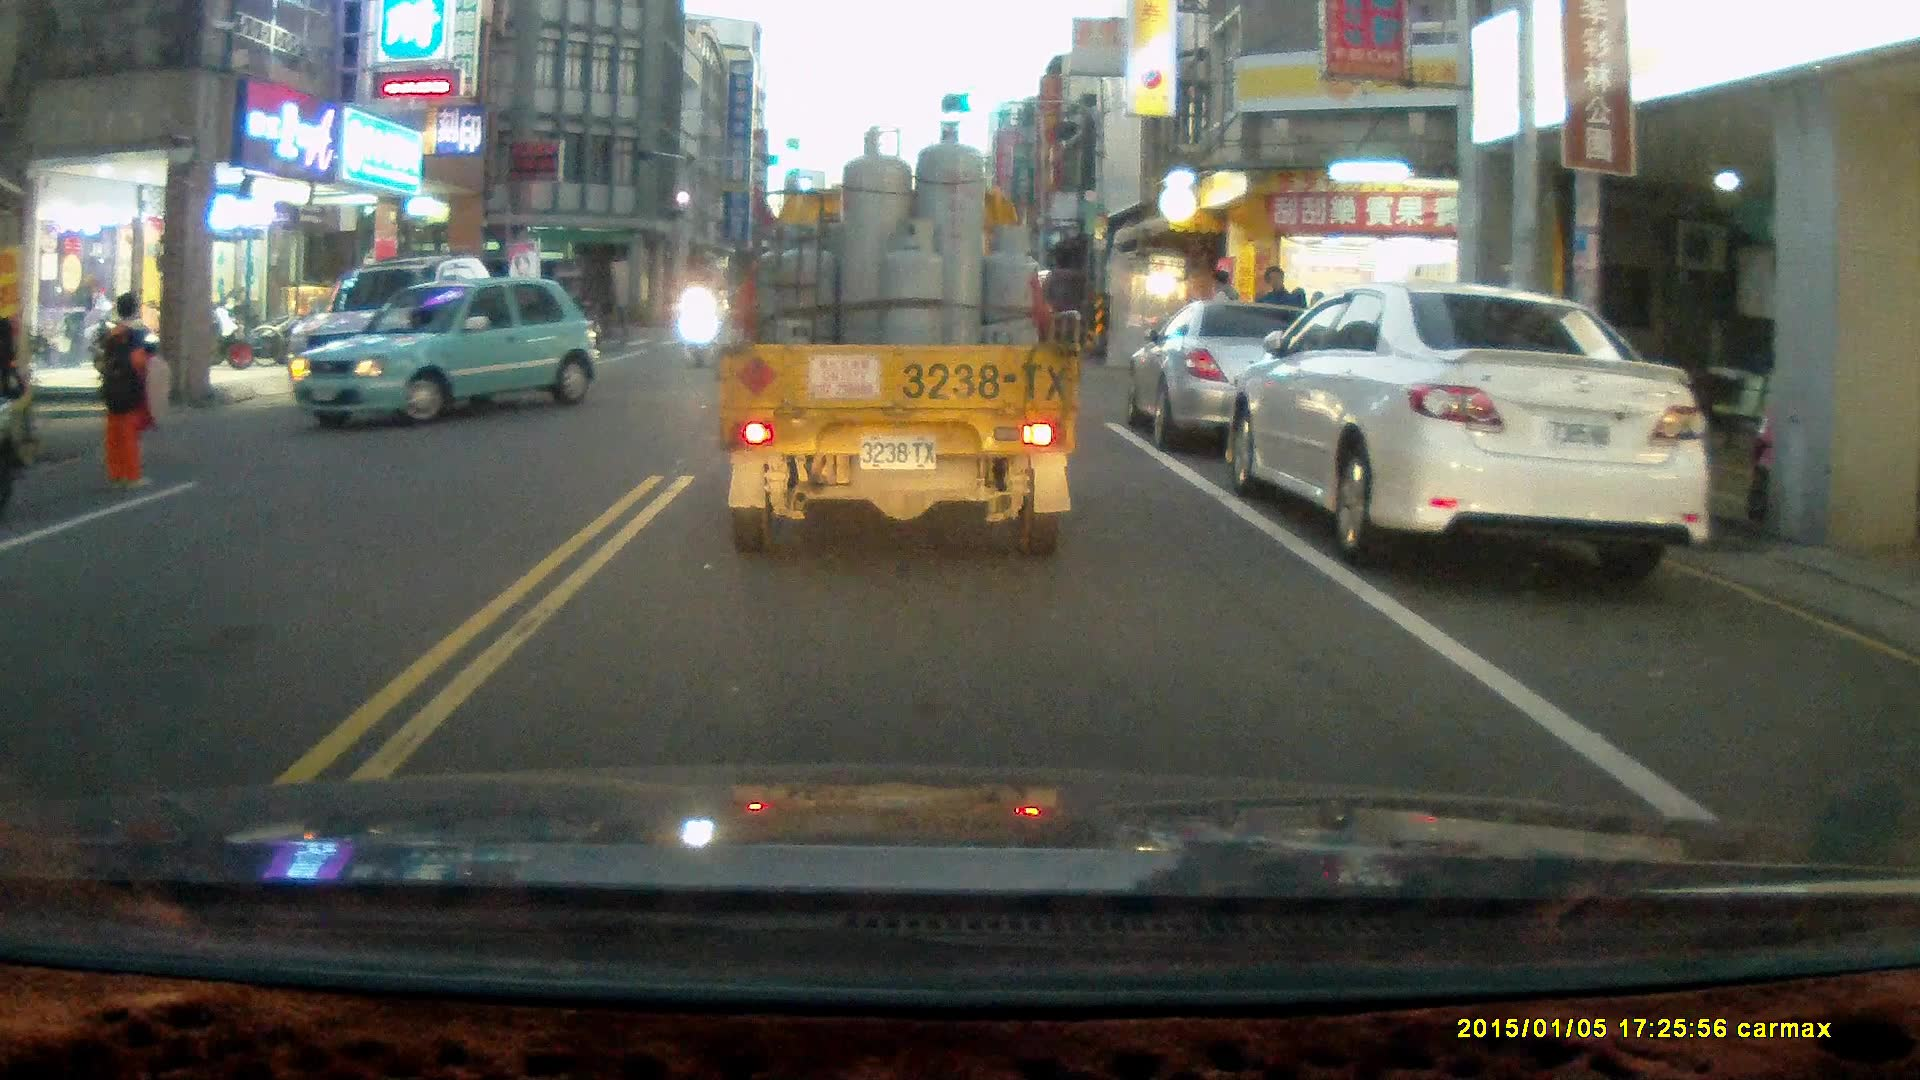pedestrian: (89, 290, 175, 490)
rider: (681, 278, 712, 369)
vehicle: (716, 123, 1079, 559), (1230, 281, 1717, 581), (1128, 297, 1416, 455), (297, 278, 596, 430)
